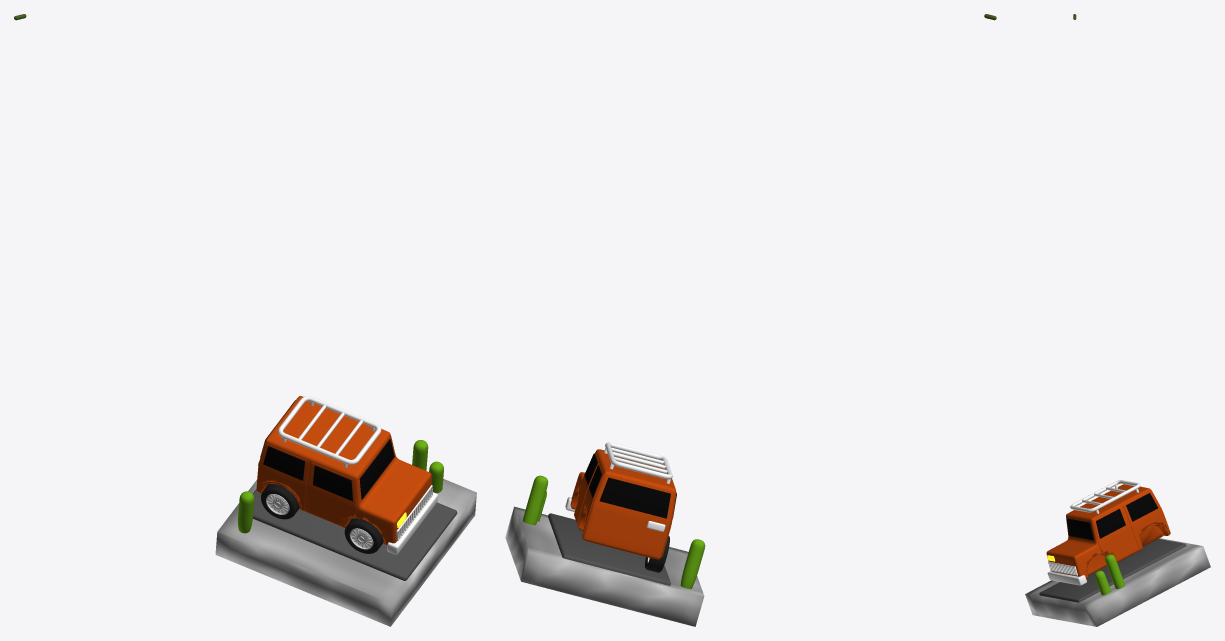
Rendered from Safari.glb.
The picture shows the model from 3 angles, left to right: view 1: azimuth 30°, elevation 25°; view 2: azimuth 150°, elevation 25°; view 3: azimuth 270°, elevation 25°; orthographic projection. The views are drawn at different scales.
Visible parts, largest first — view 1: Cube.007, Cube, Cube.008, Cube.001, Cube.002, Plane, Cylinder.001, Cylinder.072, Cube.003; view 2: Cube.007, Cube, Cube.008, Cube.002, Plane, Cube.001, Cube.013, Cube.012; view 3: Cube.007, Cube, Cube.008, Cube.001, Cube.002, Plane, Cube.013, Cube.003.
Boxes of the visible parts, x1,y1,x2,y2 form: Cube.007: (215,479,476,626); Cube: (256,396,431,544); Cube.008: (252,489,457,580); Cube.001: (256,443,356,525); Cube.002: (260,401,394,501); Plane: (278,396,381,464); Cylinder.001: (344,518,383,553); Cylinder.072: (261,484,299,519); Cube.003: (387,492,437,554); Cube.007: (505,506,704,626); Cube: (570,449,675,559); Cube.008: (548,513,670,585); Cube.002: (584,453,676,518); Plane: (605,442,672,479); Cube.001: (574,452,676,556); Cube.013: (522,475,548,525); Cube.012: (680,539,705,588); Cube.007: (1025,538,1210,626); Cube: (1046,484,1170,578); Cube.008: (1039,539,1186,602); Cube.001: (1094,491,1170,560); Cube.002: (1066,493,1157,540); Plane: (1070,480,1140,512); Cube.013: (1105,554,1124,589); Cube.003: (1047,571,1086,585).
Size of the model in its own units: 3.58 by 4.84 by 1.7.
Materials: 10 (1 with a texture image).
